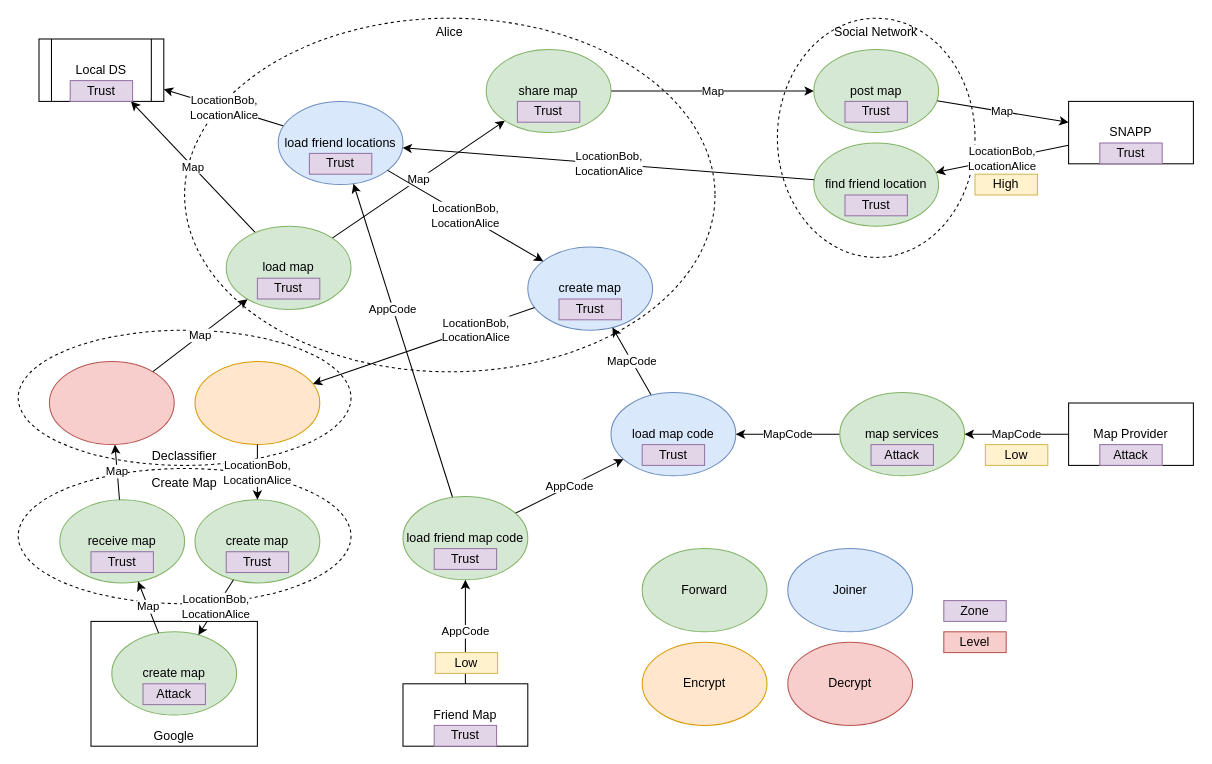
The diagram is 1212 pixels wide and 764 high, and some of its shapes have lost their labels. Each missing label, with the centre of its shape:
"decrypt map" belongs at point (111, 402).
"encrypt location" belongs at point (257, 402).
